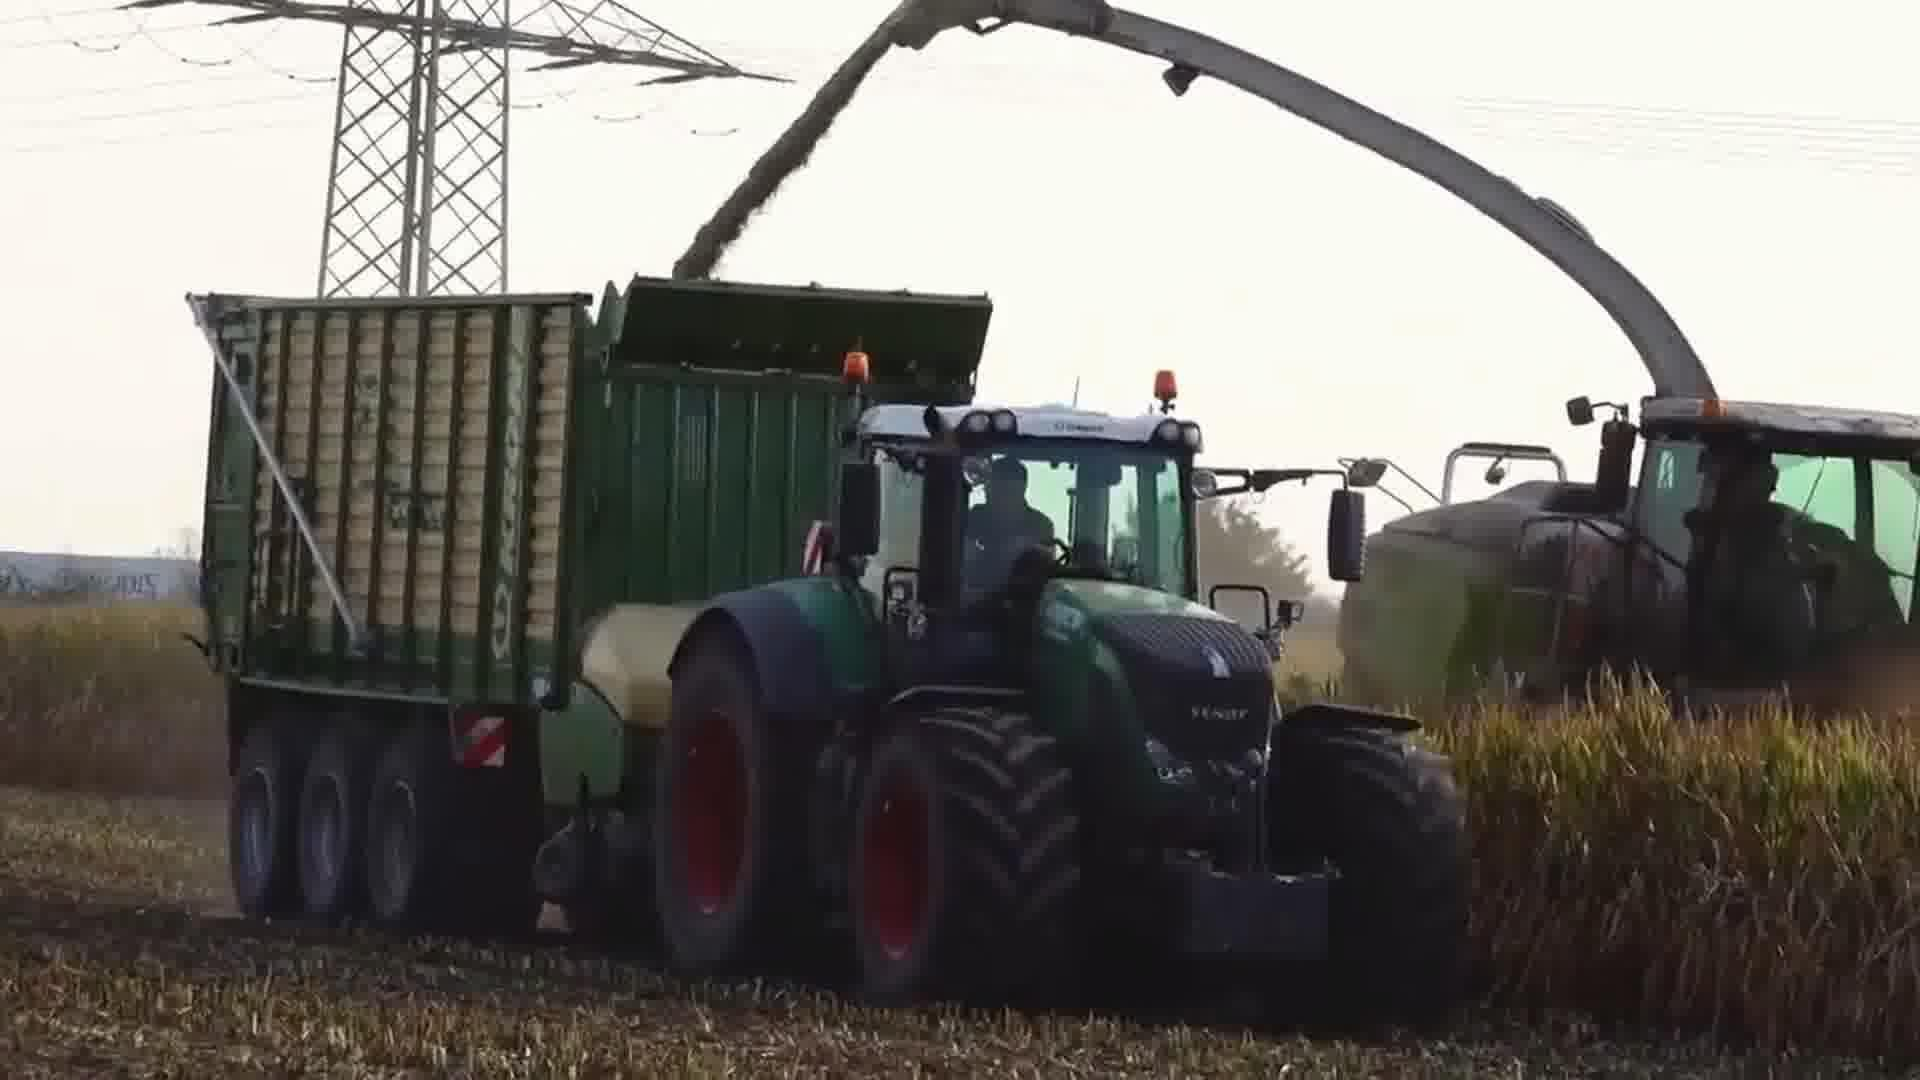combine harvester: (874, 0, 1920, 766)
tractor: (641, 339, 1480, 1050)
trailer: (176, 260, 997, 937)
